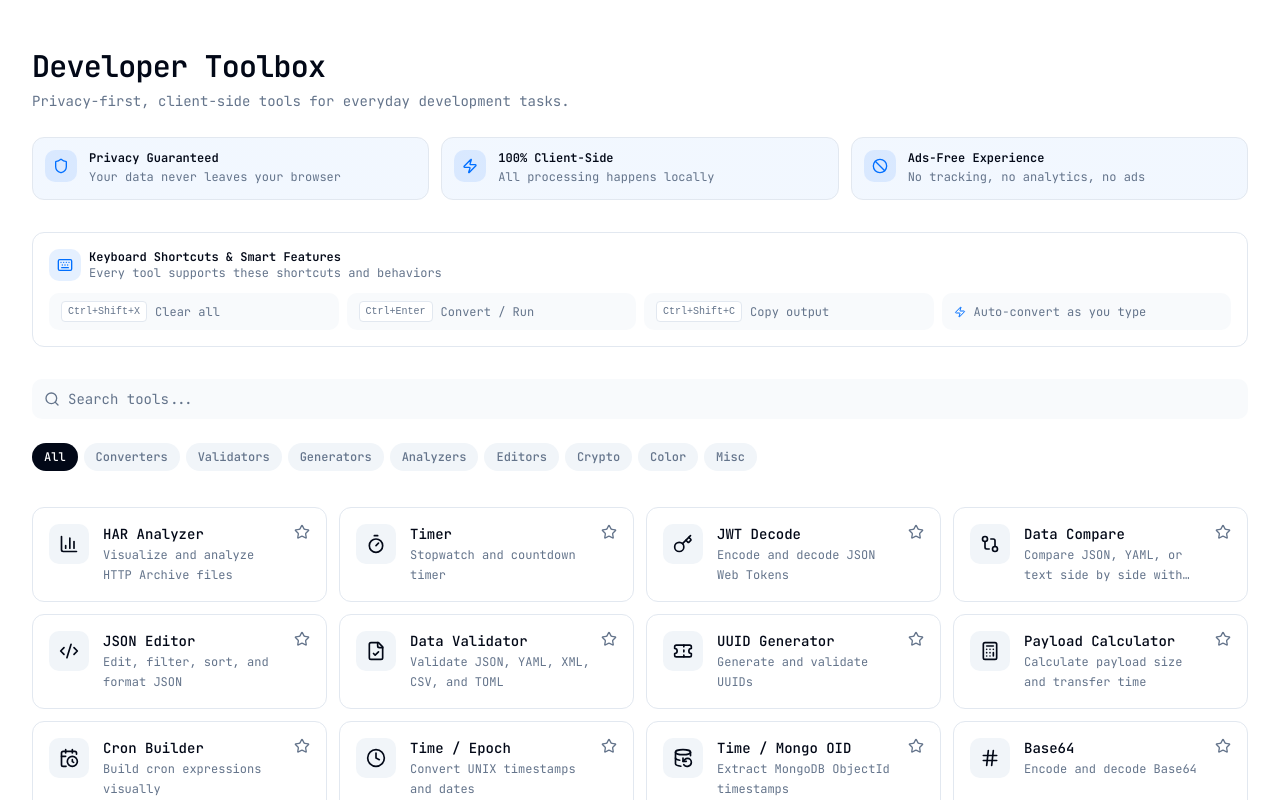
Test case: HomePage › category filtering › filters by Misc category
Click the button "Misc".
click(730, 457)  # box [704, 443, 757, 471]
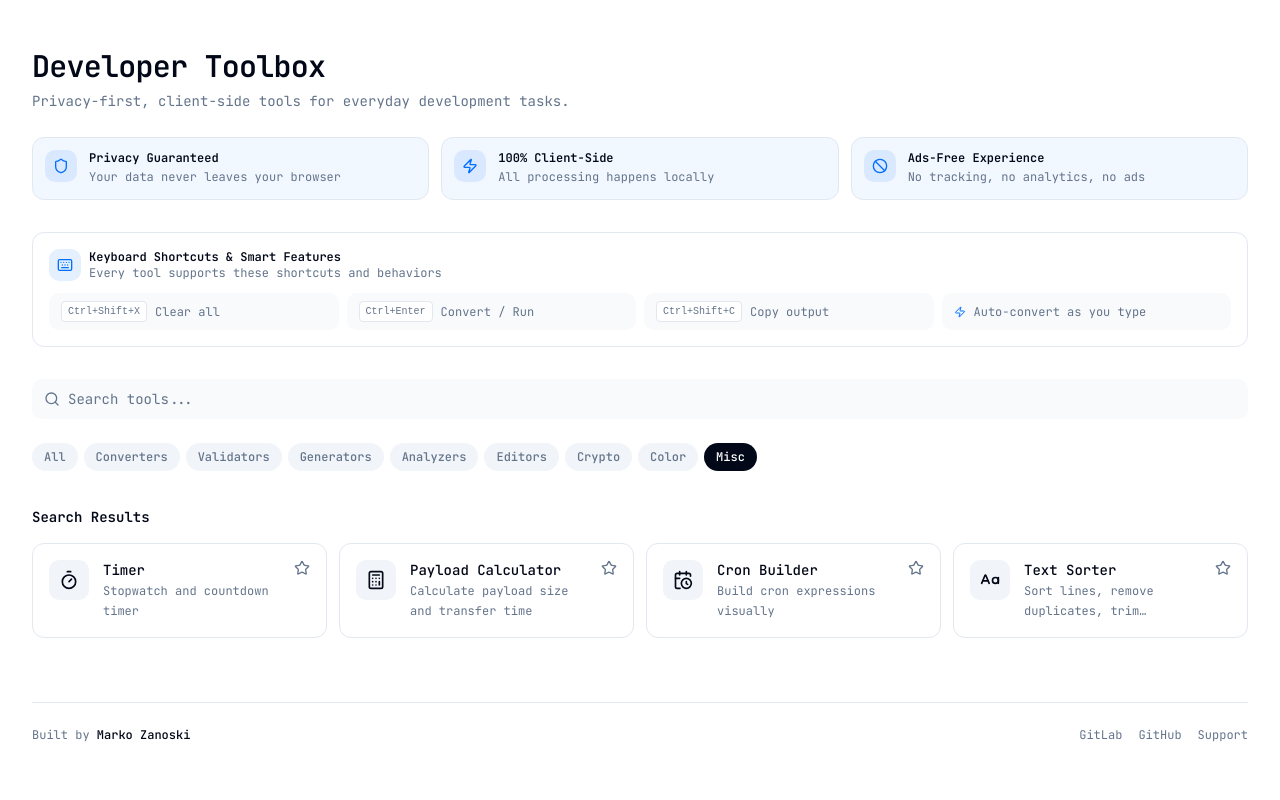
Expected: the text "Timer" is shown, [103, 560, 145, 580]
Expected: the link "JWT Decode" is gone
